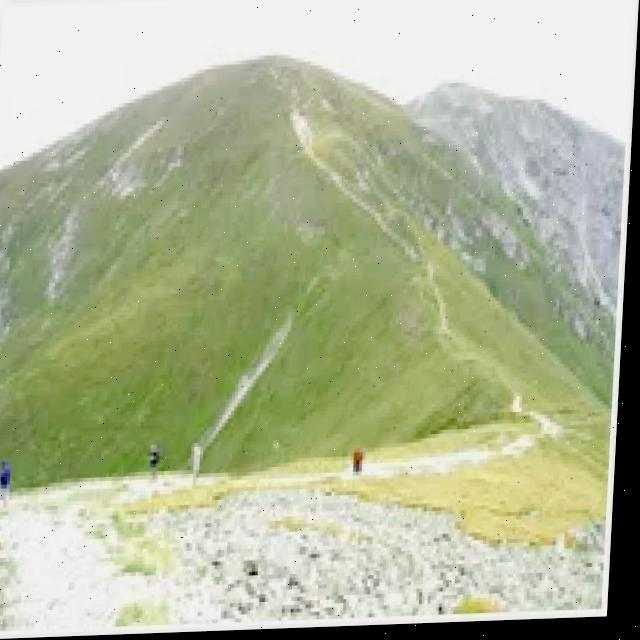Krzesanica: (379, 35, 521, 124)
Malolaczniak: (171, 0, 360, 129)
